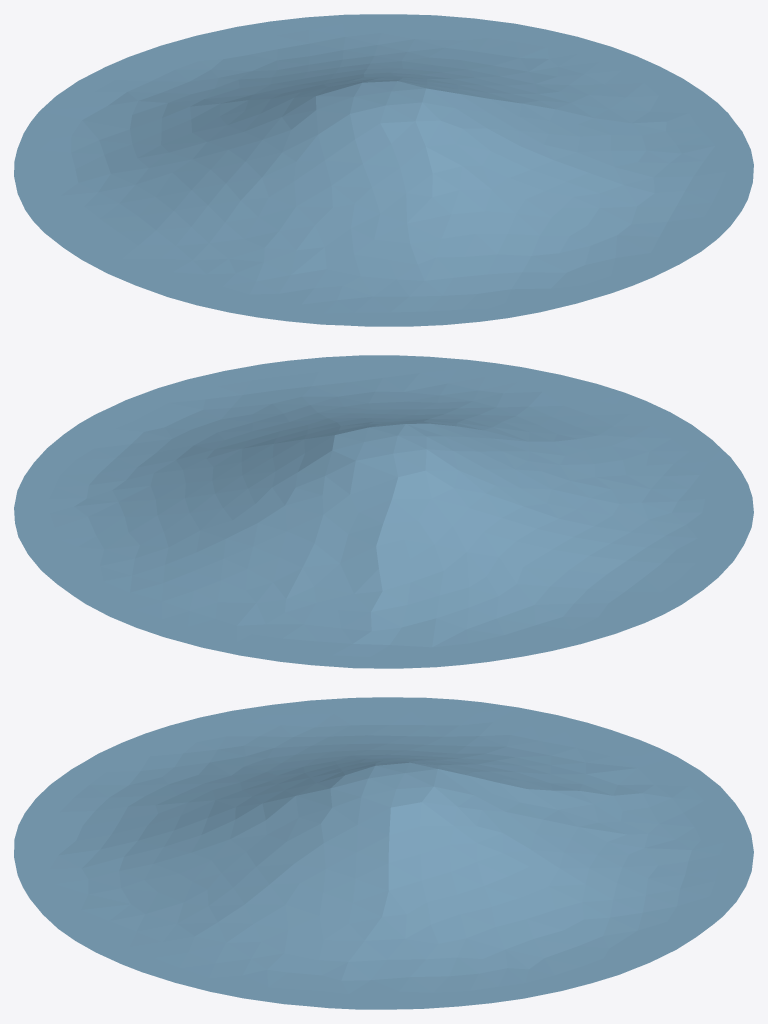
Rendered from level_0.glb.
The picture shows the model from 3 angles, top to bottom: view 1: azimuth 30°, elevation 25°; view 2: azimuth 150°, elevation 25°; view 3: azimuth 270°, elevation 25°; orthographic projection.
Parts seen in each view (by area): view 1: world; view 2: world; view 3: world.
Boxes of the visible parts, x1,y1,x2,y2 form: world: (14, 14, 753, 326); world: (14, 355, 753, 668); world: (14, 697, 753, 1009).
Size of the model in its own units: 0.6412 by 0.069 by 0.6417.
